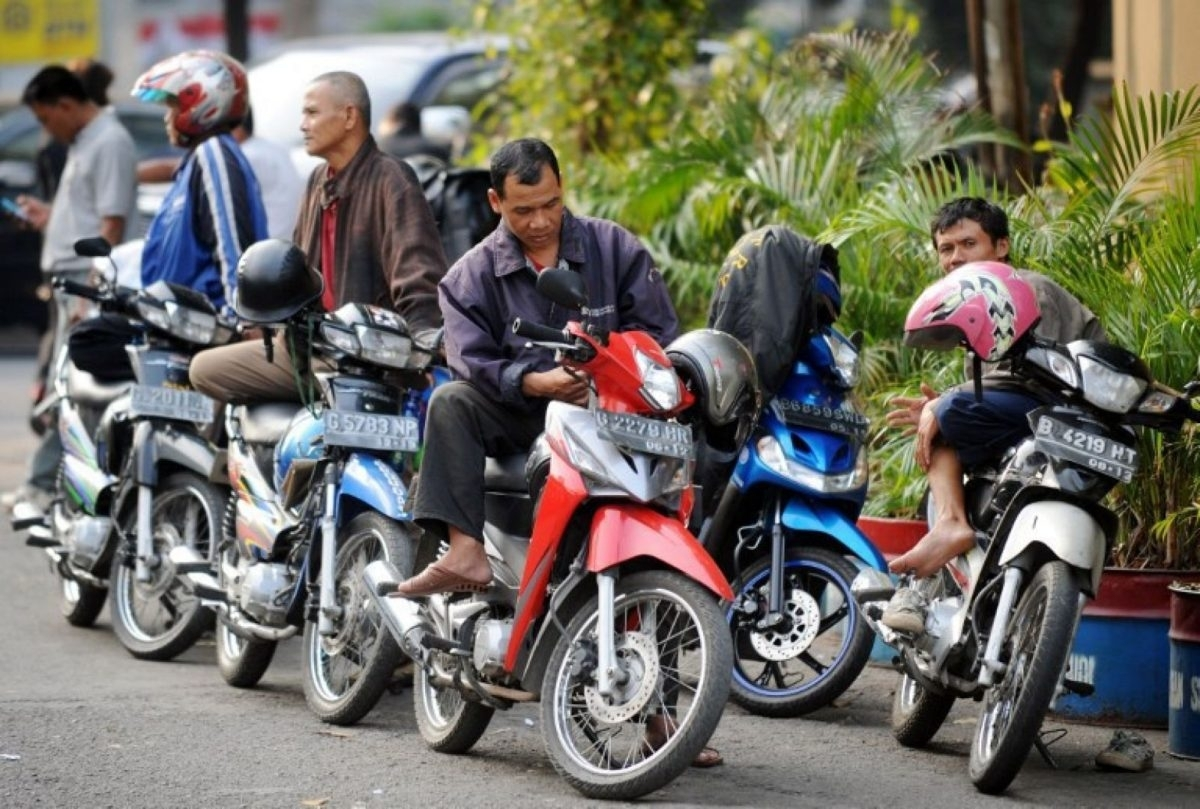plate: (1032, 411, 1135, 481), (597, 406, 689, 460), (327, 410, 420, 456), (773, 398, 871, 438), (130, 384, 212, 425)
